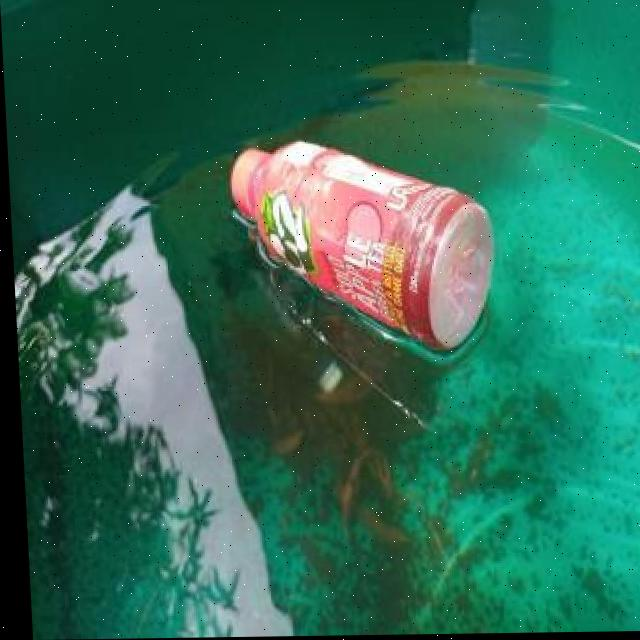bottle: (226, 138, 497, 359)
